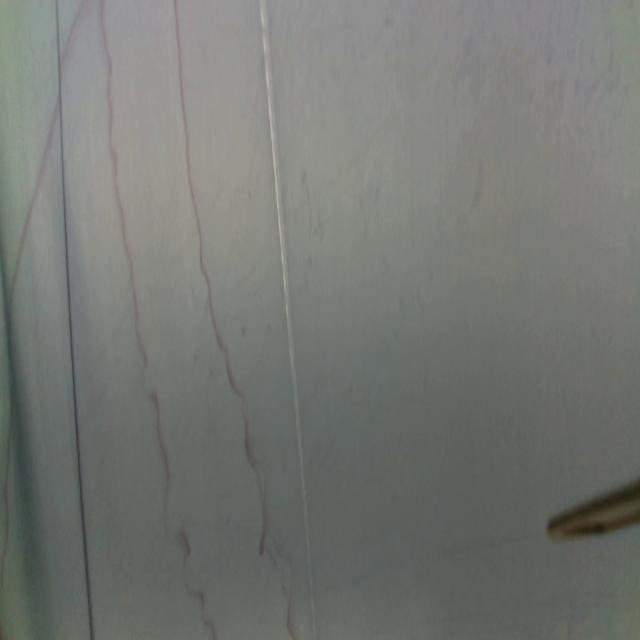crease: (259, 0, 318, 639), (56, 1, 93, 640)
